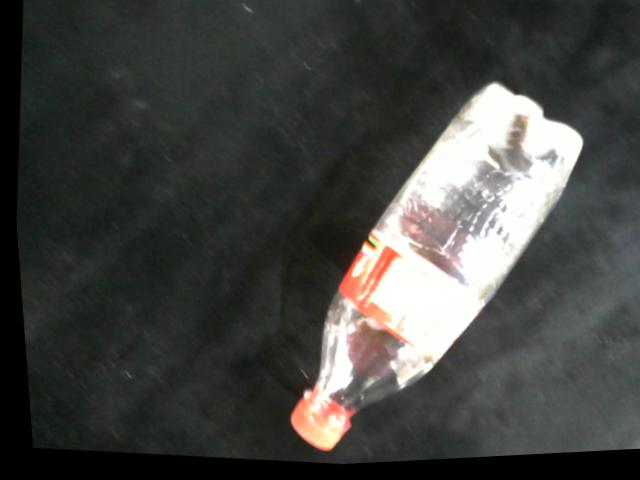bottle: (282, 87, 582, 456)
